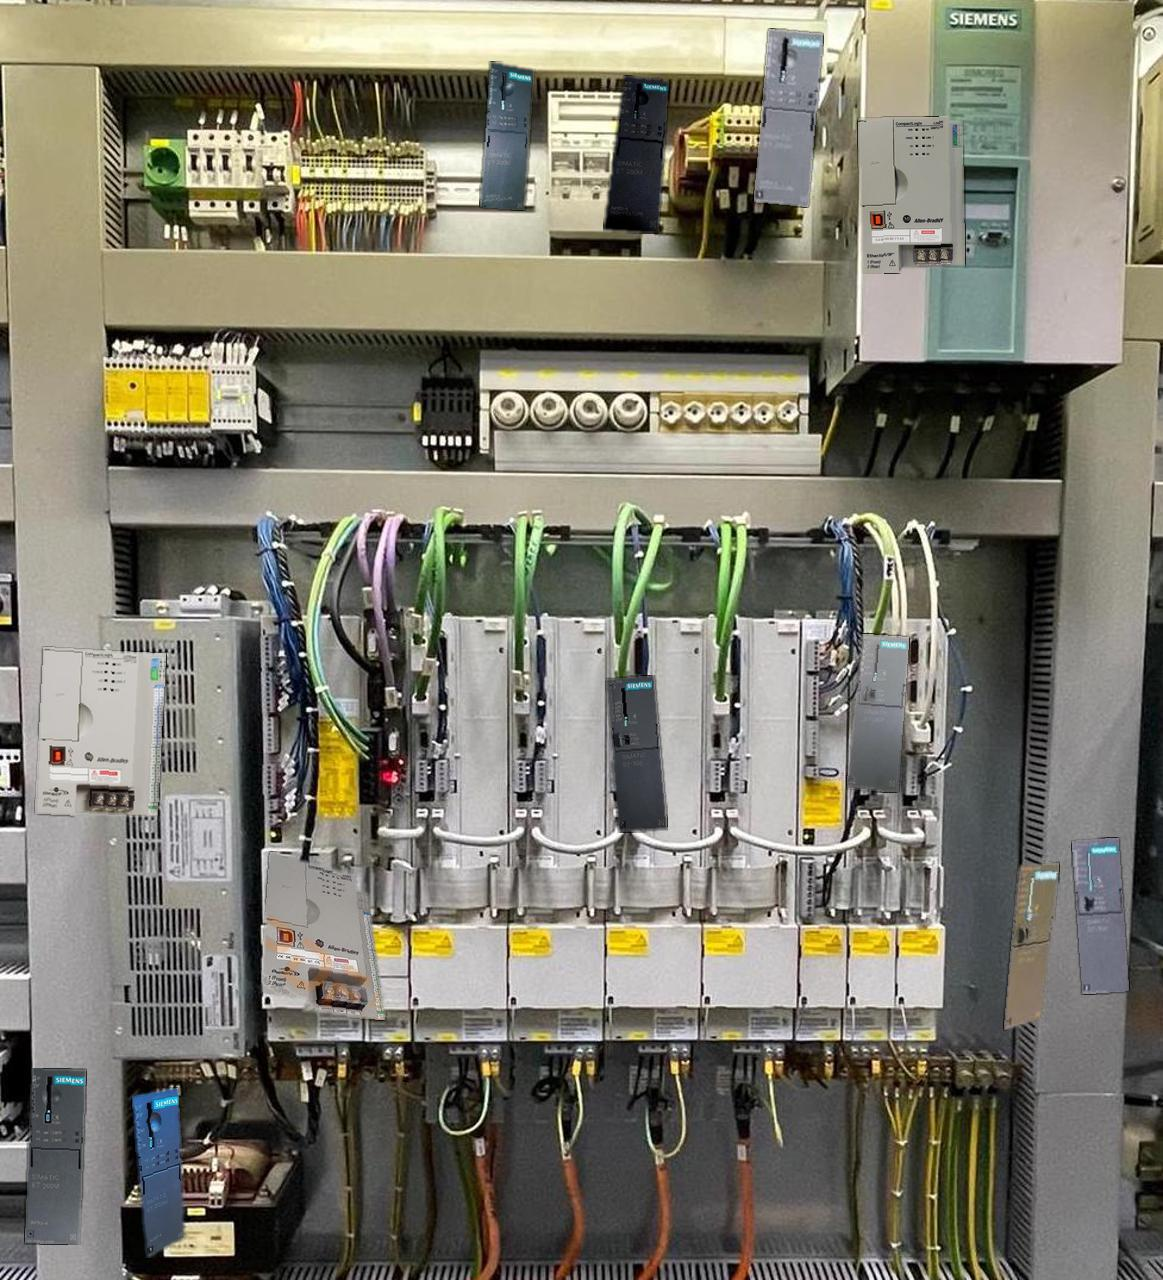AllenBradley: (36, 648, 165, 816), (261, 852, 384, 1019), (857, 116, 965, 273)
Siemens: (605, 675, 667, 832), (847, 634, 908, 792), (1004, 863, 1058, 1029), (1072, 838, 1128, 993)
